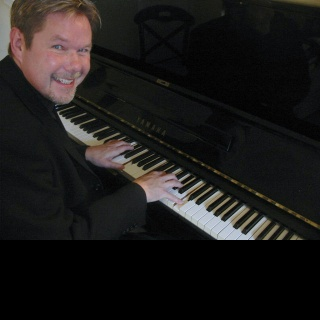without_mask: (21, 18, 92, 104)
